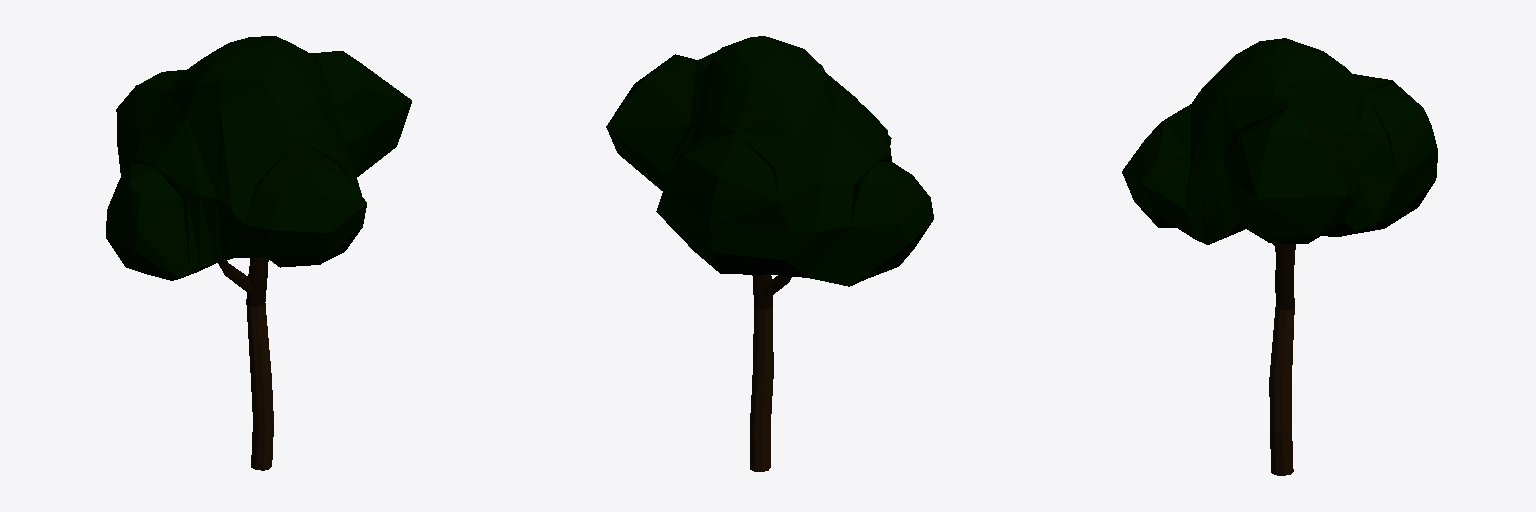
The model's file is Low_Poly_Tree_004.obj.
3 renders of one model, left to right at view 1: azimuth 30°, elevation 25°; view 2: azimuth 150°, elevation 25°; view 3: azimuth 270°, elevation 25°, orthographic.
Parts seen in each view (by area): view 1: Cylinder; view 2: Cylinder; view 3: Cylinder.
Boxes of the visible parts, <box> form: Cylinder: <box>106,36,411,470</box>; Cylinder: <box>606,36,933,471</box>; Cylinder: <box>1122,38,1437,475</box>.
Size of the model in its own units: 4.7 by 6.57 by 4.43.